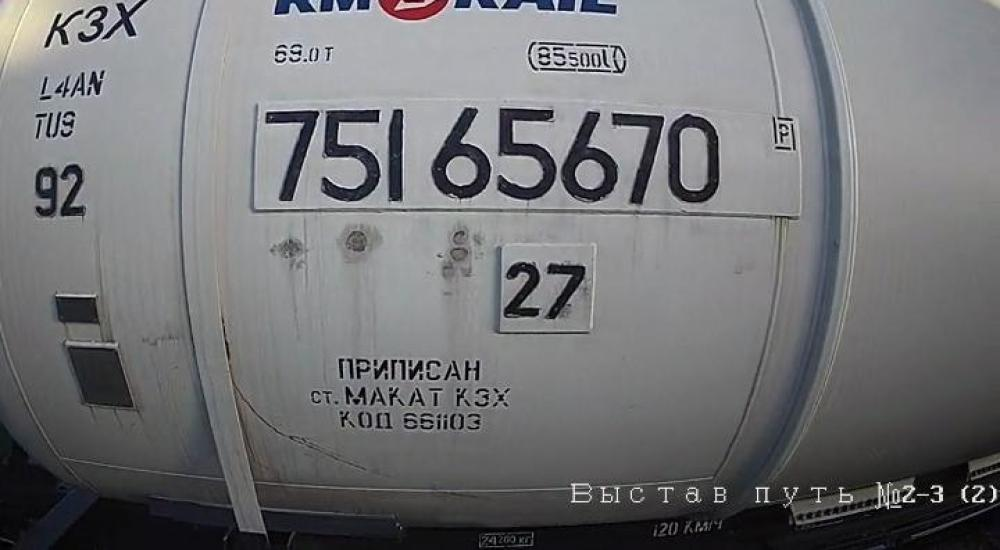Wagon-number: (257, 104, 728, 212)
